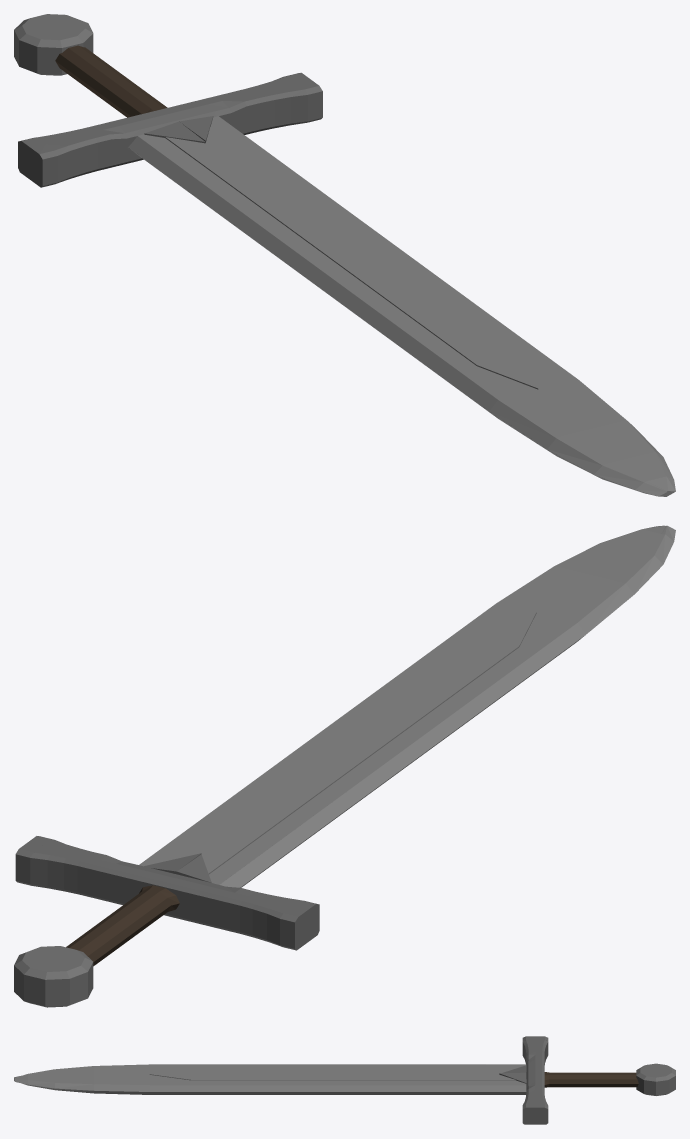
Rendered from sword.fbx.
3 renders of one model, top to bottom at view 1: azimuth 30°, elevation 25°; view 2: azimuth 150°, elevation 25°; view 3: azimuth 270°, elevation 25°, orthographic. The views are drawn at different scales.
Parts seen in each view (by area): view 1: polySurface6; view 2: polySurface6; view 3: polySurface6.
Boxes of the visible parts, <box> form: polySurface6: <box>14,14,675,496</box>; polySurface6: <box>14,525,675,1007</box>; polySurface6: <box>14,1036,675,1124</box>.
Bounding box in the file's own units: 18.83 × 2.28 × 73.75.
